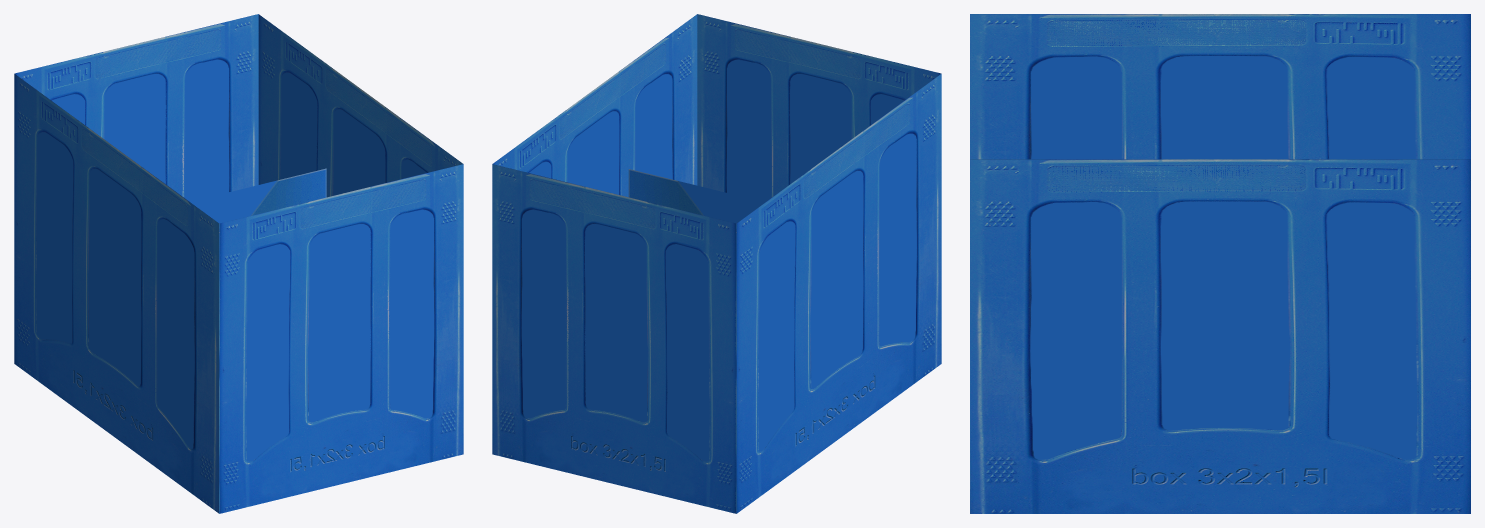
Rendered from mdbox.fbx.
3 renders of one model, left to right at view 1: azimuth 30°, elevation 25°; view 2: azimuth 150°, elevation 25°; view 3: azimuth 270°, elevation 25°, orthographic. The views are drawn at different scales.
Parts seen in each view (by area): view 1: mdbox_Layer1; view 2: mdbox_Layer1; view 3: mdbox_Layer1.
Boxes of the visible parts, x1=… form: mdbox_Layer1: x1=14, y1=14, x2=463, y2=513; mdbox_Layer1: x1=492, y1=14, x2=941, y2=513; mdbox_Layer1: x1=970, y1=14, x2=1470, y2=513.
Bounding box in the file's own units: 44 × 50 × 64.
1 material, 1 textured.
